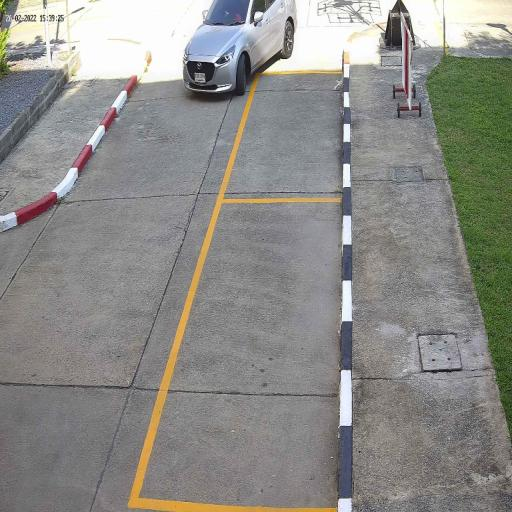car: (182, 0, 297, 92)
